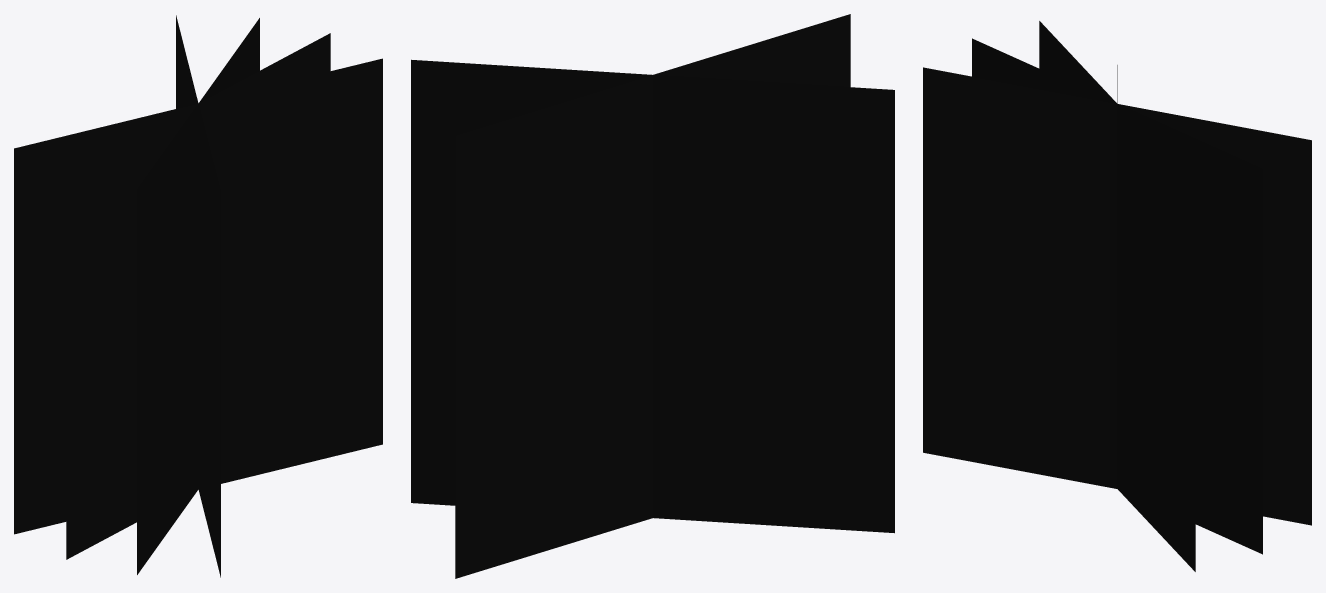
File: PlantIvy.glb
3 views of the same model, side by side, from view 1: azimuth 30°, elevation 25°; view 2: azimuth 150°, elevation 25°; view 3: azimuth 270°, elevation 25° (orthographic). The views are drawn at different scales.
Visible parts, largest first — view 1: PlantIvy; view 2: PlantIvy; view 3: PlantIvy.
Part boxes in pixels (x1,y1,x2,y2): PlantIvy: (14, 15, 382, 577); PlantIvy: (411, 14, 894, 578); PlantIvy: (923, 21, 1311, 571).
Size of the model in its own units: 45.53 by 45.53 by 41.63.
Materials: 1 (1 with a texture image).
